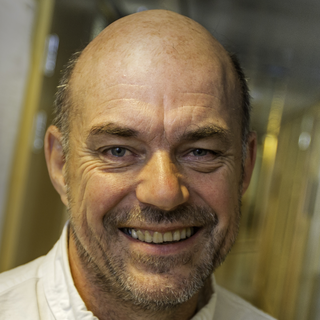eye: (93, 140, 140, 163), (174, 144, 225, 164)
